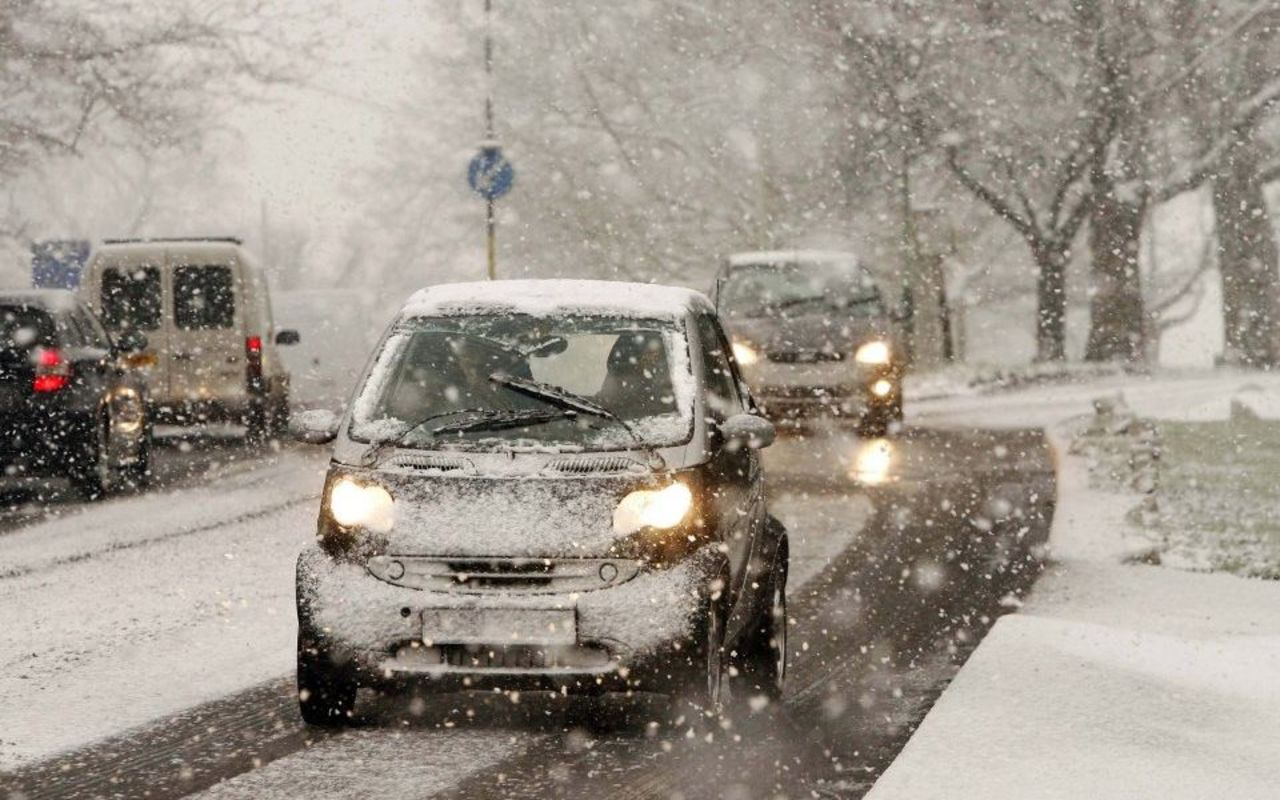car: (292, 274, 783, 733), (83, 240, 293, 438), (709, 248, 900, 431), (0, 292, 142, 504)
